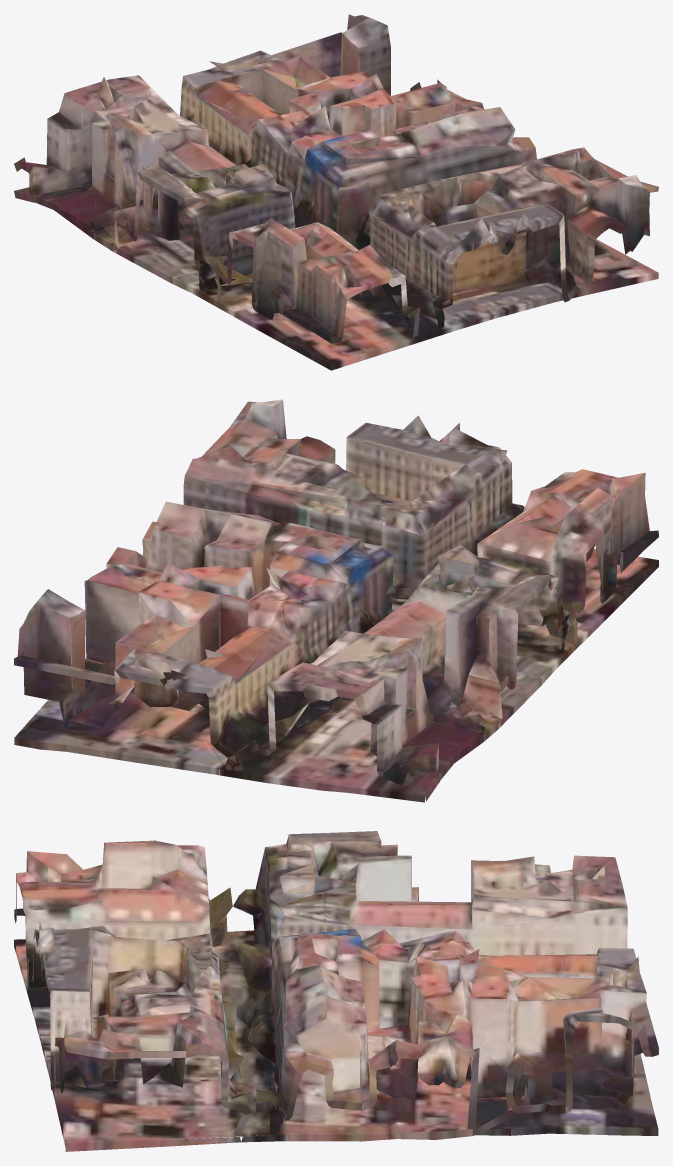
The picture shows the model from 3 angles, top to bottom: view 1: azimuth 30°, elevation 25°; view 2: azimuth 150°, elevation 25°; view 3: azimuth 270°, elevation 25°; orthographic projection. The views are drawn at different scales.
Visible parts, largest first — view 1: Mesh_0; view 2: Mesh_0; view 3: Mesh_0.
Boxes of the visible parts, bbox=[...] form: Mesh_0: bbox=[14, 14, 658, 370]; Mesh_0: bbox=[14, 399, 658, 802]; Mesh_0: bbox=[14, 831, 658, 1151].
Bounding box in the file's own units: 133 × 38.66 × 165.
1 material, 1 textured.
